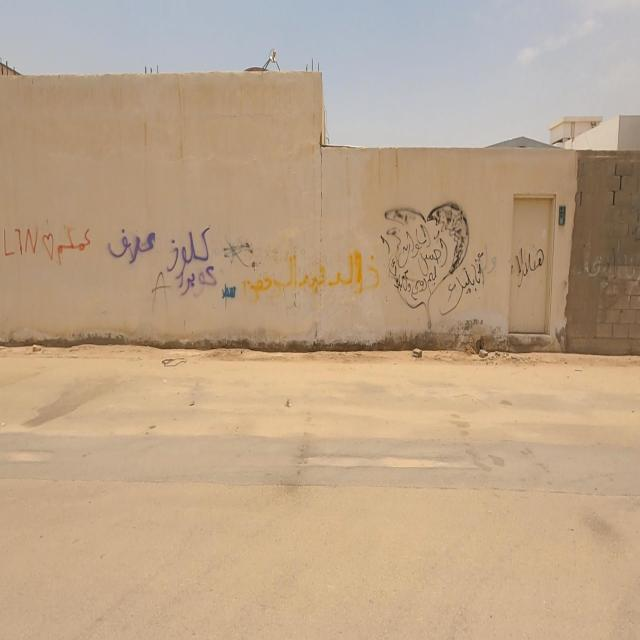Graffiti: (167, 225, 381, 301), (382, 199, 498, 331), (573, 246, 640, 303), (3, 229, 95, 265), (109, 227, 160, 265), (515, 248, 546, 289), (154, 271, 169, 312)
